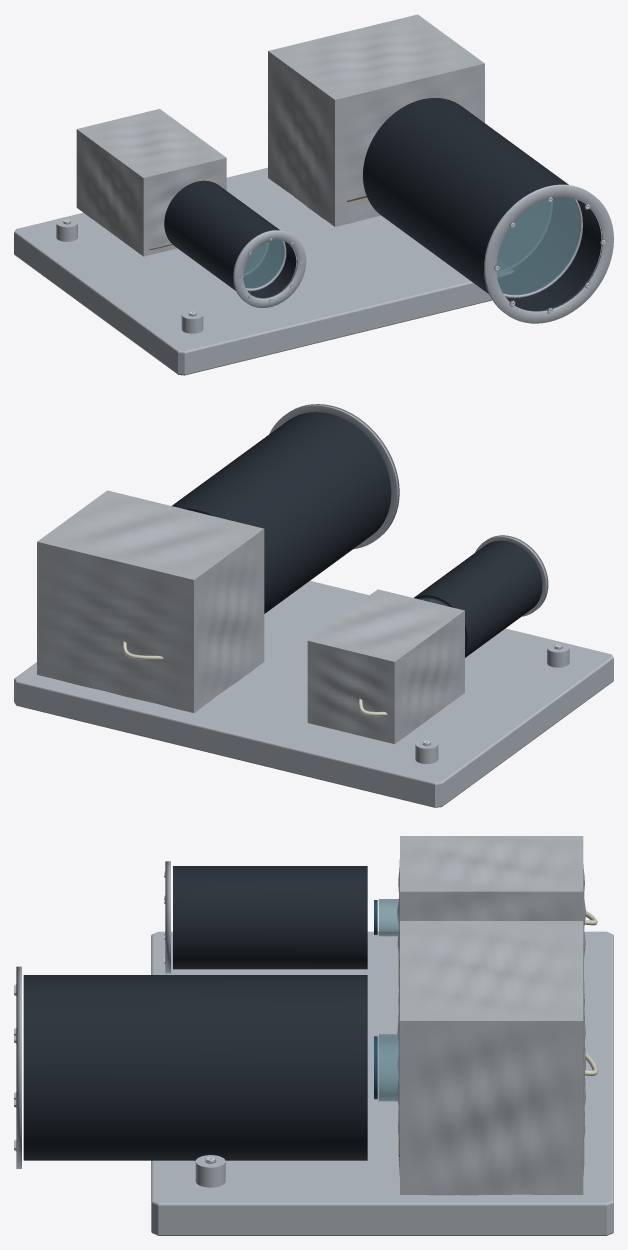
The model's file is mariner-camera.glb.
The picture shows the model from 3 angles, top to bottom: view 1: azimuth 30°, elevation 25°; view 2: azimuth 150°, elevation 25°; view 3: azimuth 270°, elevation 25°; orthographic projection. The views are drawn at different scales.
Visible parts, largest first — view 1: OPTICAL_BENCH_Machined_aluminium, CAMERA_RIGHT_COVER_Silver_thermal_blanket, CAMERA_RIGHT_BARREL_Anodized_aluminium, CAMERA_LEFT_COVER_Silver_thermal_blanket, BORED_FLANGE_2_Machined_aluminium (×2), CAMERA_LEFT_BARREL_Anodized_aluminium, CAMERA_RIGHT_LENS_3_Optical_glass, CAMERA_RIGHT_BARREL_COVER_Anodized_aluminium, CAMERA_RIGHT_LENS_2_Optical_glass, CAMERA_LEFT_BARREL_COVER_Anodized_aluminium, CAMERA_LEFT_LENS_3_Optical_glass; view 2: OPTICAL_BENCH_Machined_aluminium, CAMERA_RIGHT_COVER_Silver_thermal_blanket, CAMERA_RIGHT_BARREL_Anodized_aluminium, CAMERA_LEFT_COVER_Silver_thermal_blanket, CAMERA_LEFT_BARREL_Anodized_aluminium, BORED_FLANGE_2_Machined_aluminium (×2), CAMERA_RIGHT_BARREL_COVER_Anodized_aluminium; view 3: CAMERA_RIGHT_BARREL_Anodized_aluminium, CAMERA_RIGHT_COVER_Silver_thermal_blanket, OPTICAL_BENCH_Machined_aluminium, CAMERA_LEFT_BARREL_Anodized_aluminium, CAMERA_LEFT_COVER_Silver_thermal_blanket, CAMERA_RIGHT_BARREL_COVER_Anodized_aluminium, CAMERA_LEFT_BARREL_COVER_Anodized_aluminium, BORED_FLANGE_2_Machined_aluminium (×2), CAMERA_RIGHT_DETECTOR_Optical_glass, CAMERA_LEFT_DETECTOR_Optical_glass.
Boxes of the visible parts, x1,y1,x2,y2 form: OPTICAL_BENCH_Machined_aluminium: (14, 167, 513, 375); CAMERA_RIGHT_COVER_Silver_thermal_blanket: (268, 14, 484, 226); CAMERA_RIGHT_BARREL_Anodized_aluminium: (363, 98, 601, 283); CAMERA_LEFT_COVER_Silver_thermal_blanket: (76, 109, 226, 256); BORED_FLANGE_2_Machined_aluminium (×2): (233, 184, 613, 323); CAMERA_LEFT_BARREL_Anodized_aluminium: (164, 180, 296, 284); CAMERA_RIGHT_LENS_3_Optical_glass: (496, 197, 580, 295); CAMERA_RIGHT_BARREL_COVER_Anodized_aluminium: (367, 198, 597, 310); CAMERA_RIGHT_LENS_2_Optical_glass: (497, 200, 549, 271); CAMERA_LEFT_BARREL_COVER_Anodized_aluminium: (167, 236, 294, 297); CAMERA_LEFT_LENS_3_Optical_glass: (243, 240, 283, 288); OPTICAL_BENCH_Machined_aluminium: (14, 581, 613, 807); CAMERA_RIGHT_COVER_Silver_thermal_blanket: (37, 490, 264, 712); CAMERA_RIGHT_BARREL_Anodized_aluminium: (172, 412, 391, 605); CAMERA_LEFT_COVER_Silver_thermal_blanket: (307, 589, 464, 744); CAMERA_LEFT_BARREL_Anodized_aluminium: (414, 540, 542, 653); BORED_FLANGE_2_Machined_aluminium (×2): (269, 404, 548, 616); CAMERA_RIGHT_BARREL_COVER_Anodized_aluminium: (264, 517, 386, 613); CAMERA_RIGHT_BARREL_Anodized_aluminium: (23, 975, 367, 1136); CAMERA_RIGHT_COVER_Silver_thermal_blanket: (397, 921, 585, 1195); OPTICAL_BENCH_Machined_aluminium: (151, 931, 613, 1235); CAMERA_LEFT_BARREL_Anodized_aluminium: (173, 866, 367, 955); CAMERA_LEFT_COVER_Silver_thermal_blanket: (397, 836, 585, 975); CAMERA_RIGHT_BARREL_COVER_Anodized_aluminium: (23, 1136, 367, 1160); CAMERA_LEFT_BARREL_COVER_Anodized_aluminium: (173, 955, 367, 969); BORED_FLANGE_2_Machined_aluminium (×2): (16, 861, 170, 1168); CAMERA_RIGHT_DETECTOR_Optical_glass: (378, 1034, 398, 1101); CAMERA_LEFT_DETECTOR_Optical_glass: (378, 899, 398, 936).
Size of the model in its own units: 0.5635 by 0.2565 by 0.5233.
